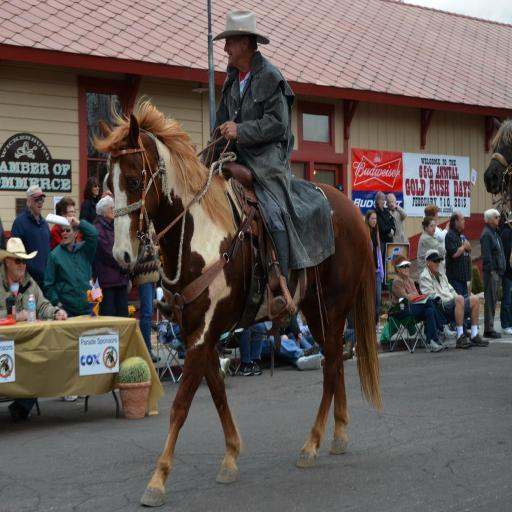horse: (88, 95, 384, 511), (481, 116, 512, 198)
